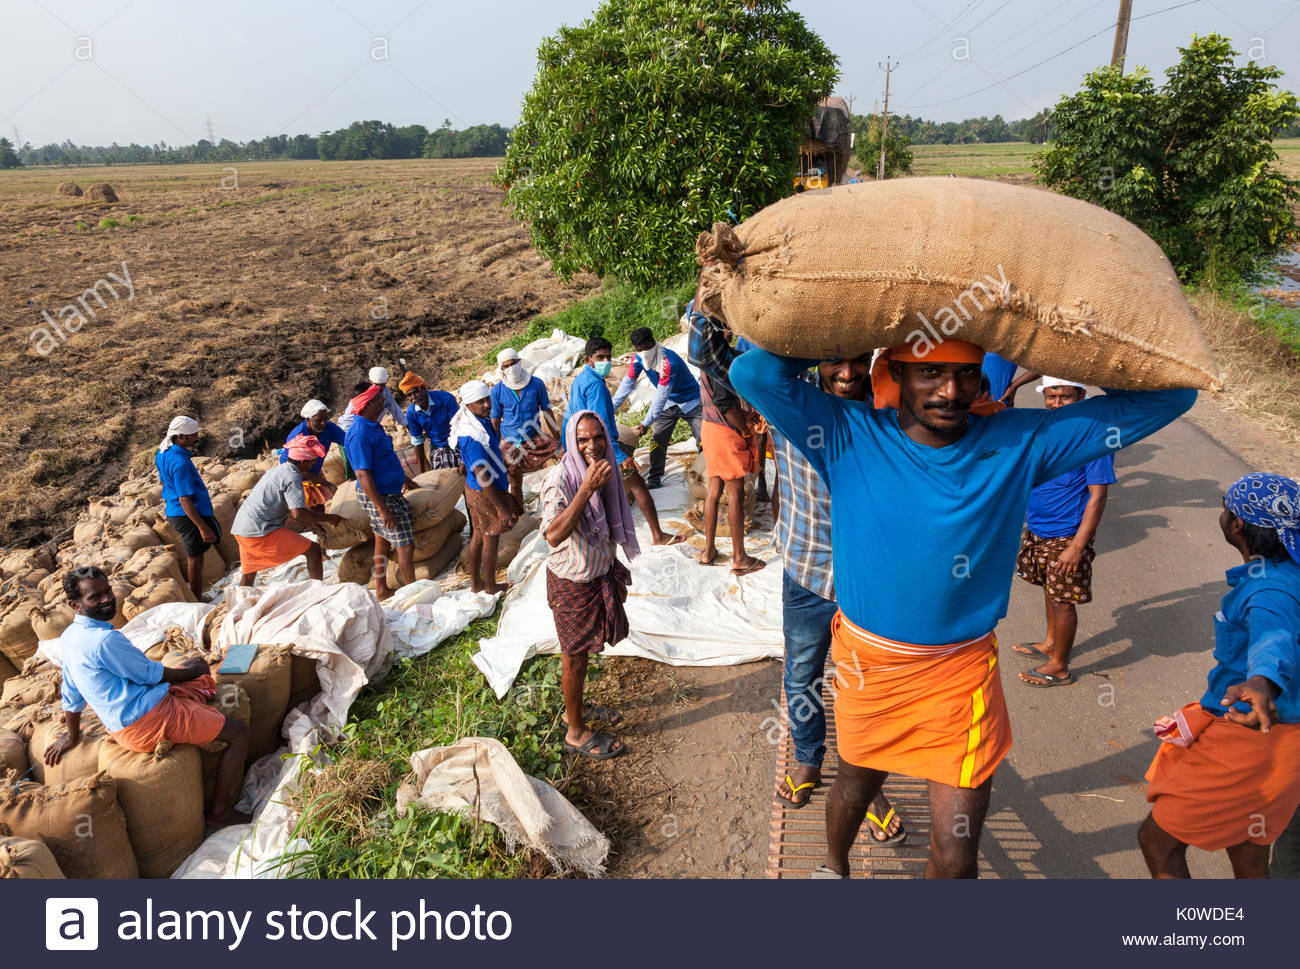NOTSAFE: (814, 331, 1014, 645), (1204, 470, 1300, 716), (54, 559, 163, 723), (533, 404, 625, 581), (233, 440, 329, 534), (349, 377, 410, 499), (158, 415, 216, 526)
